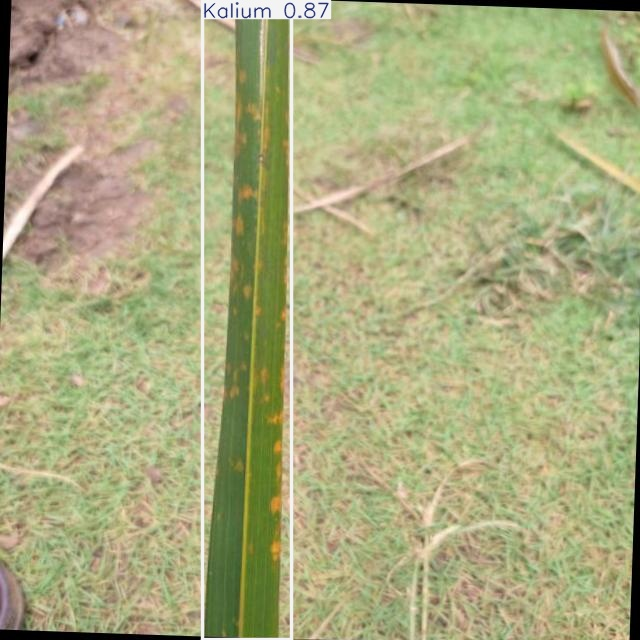Kalium: (203, 0, 292, 639)
